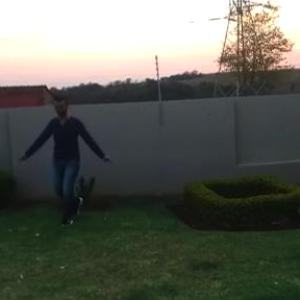land: (22, 107, 107, 226)
